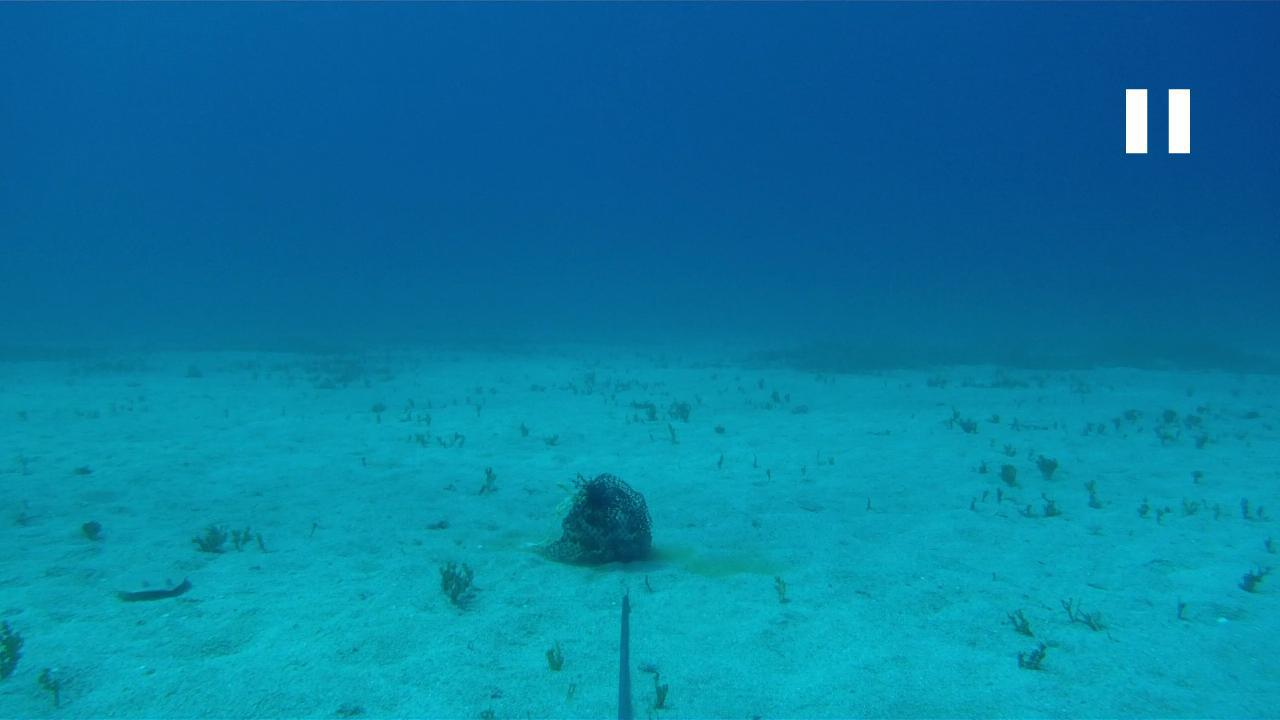bothus: (107, 558, 191, 605)
